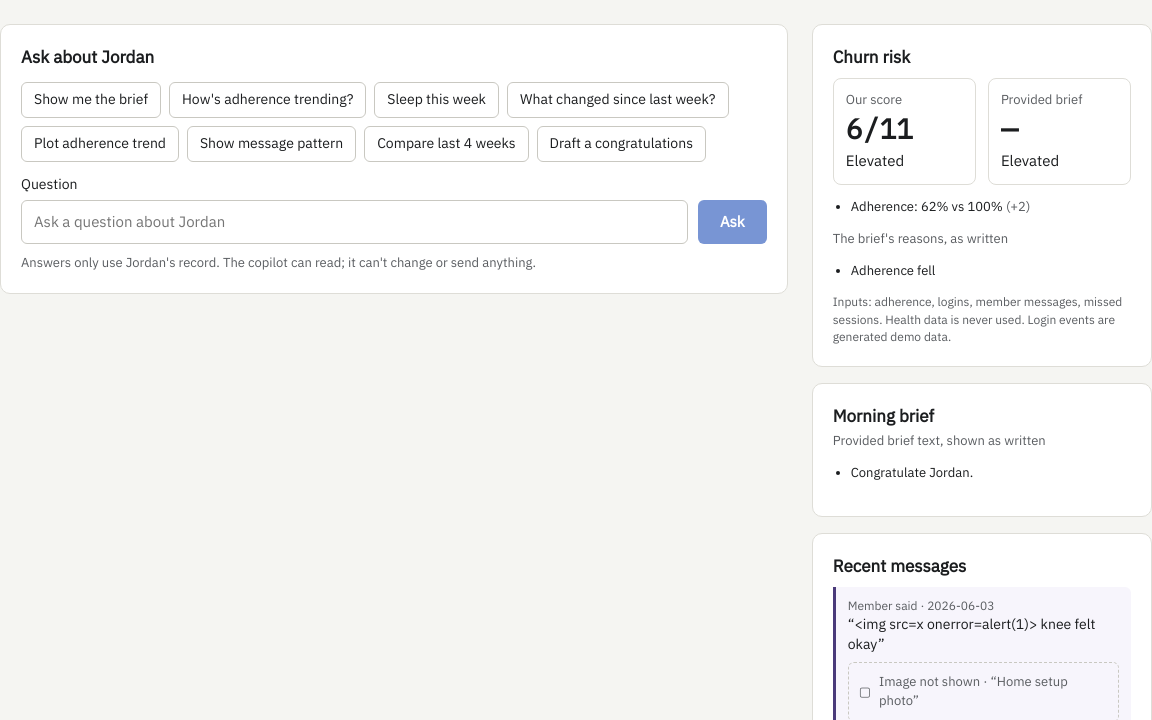
it: CopilotPage › keeps the thread and sends earlier turns with a follow-up
Type "How's adherence?" into the field labelled "Question" at (354, 222), box [21,200,688,244]
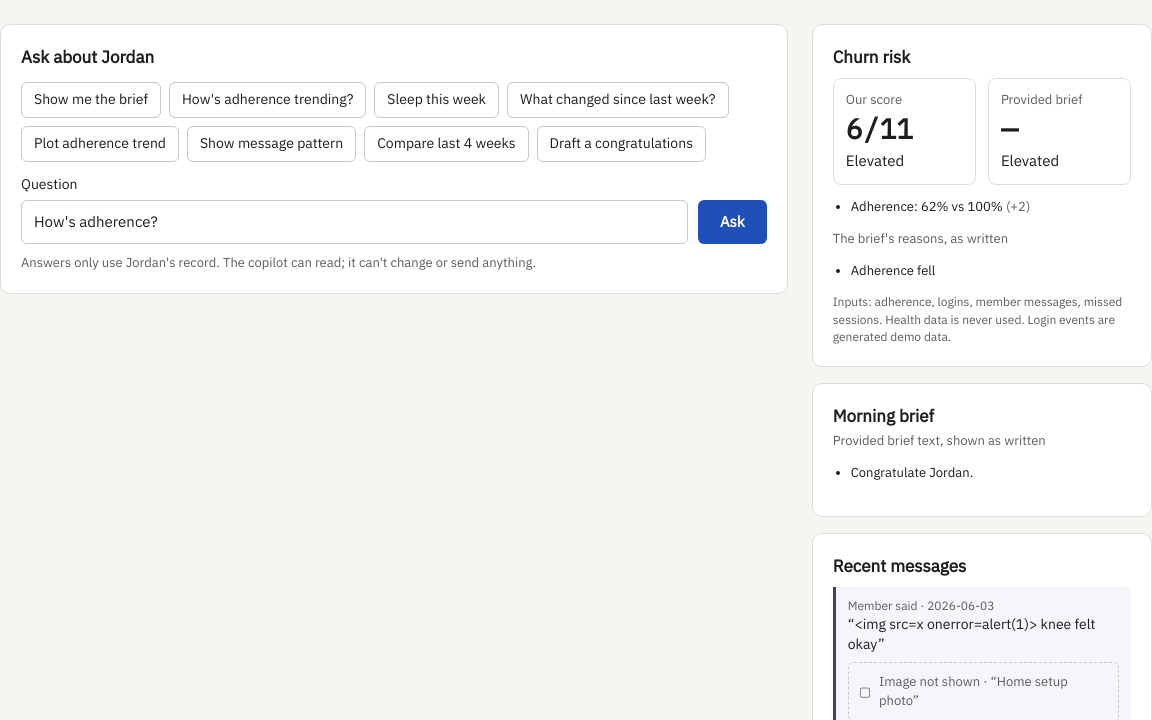
Click the button "Ask" at (732, 222), box [698,200,767,244]
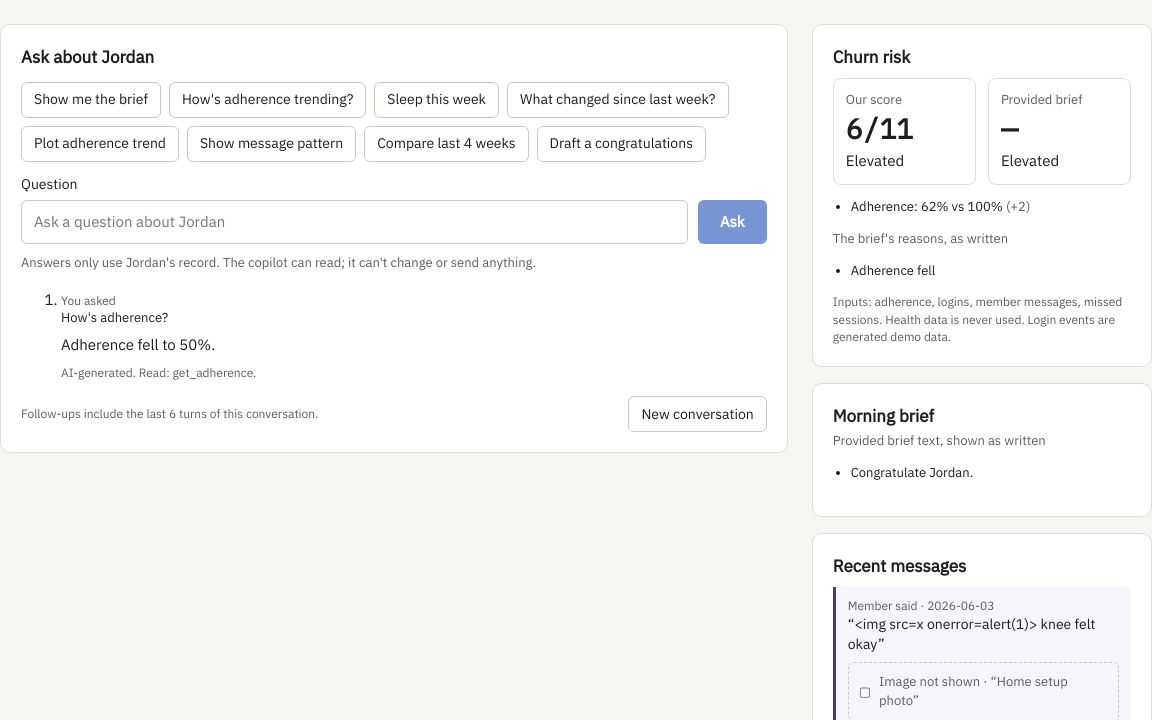
Check: the text "Adherence fell to 50%." is shown, box [61,335,215,354]
Type "And the week before?" into the field labelled "Question" at (354, 222), box [21,200,688,244]
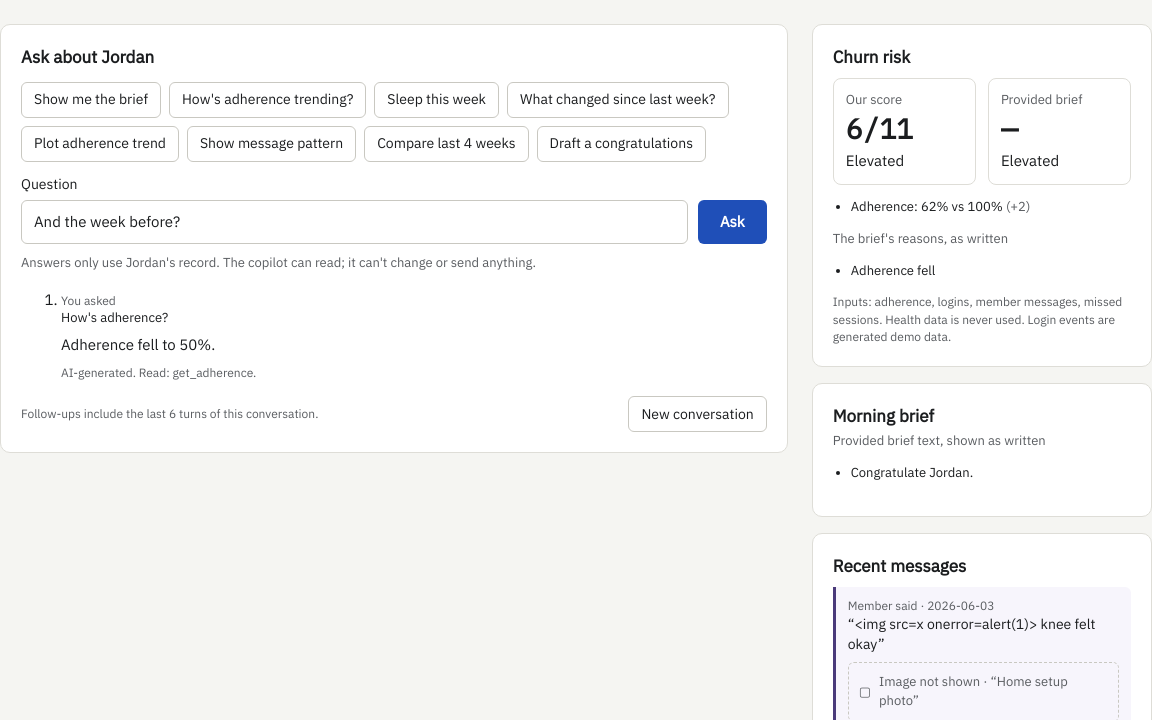
Click the button "Ask" at (732, 222), box [698,200,767,244]
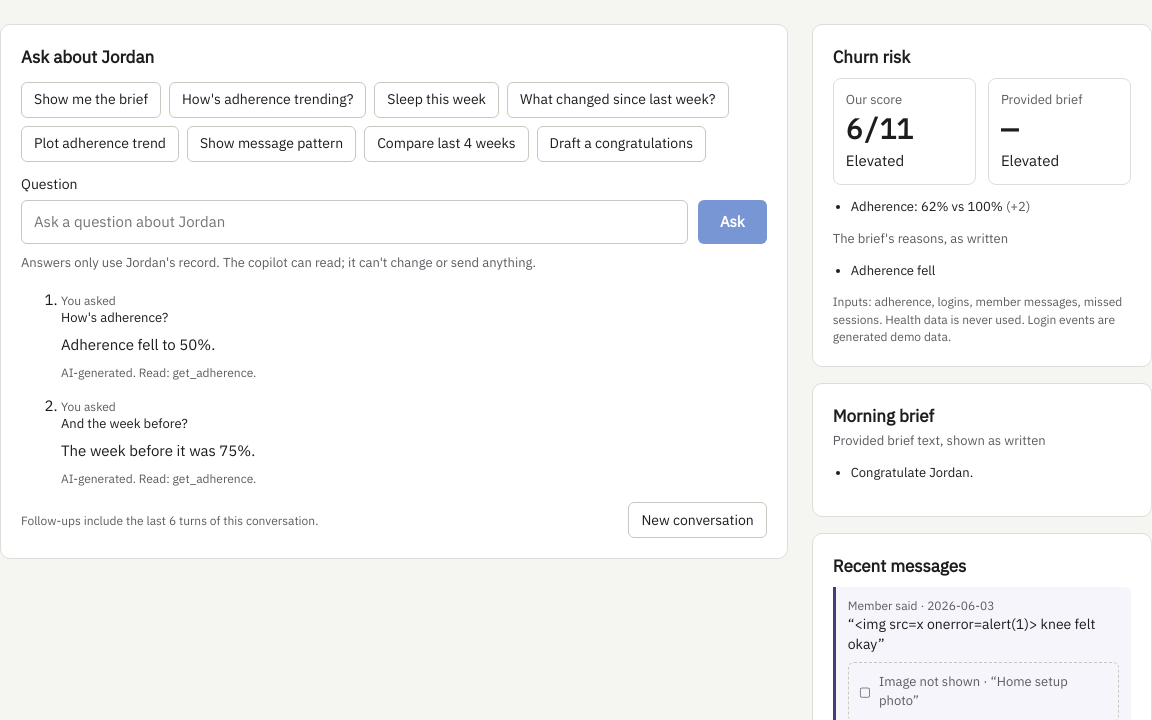
Check: the text "Adherence fell to 50%." is shown, box [61,335,215,354]
Check: the text "The week before it was 75%." is shown, box [61,441,255,460]
Check: the text "And the week before?" is shown, box [61,415,188,432]
